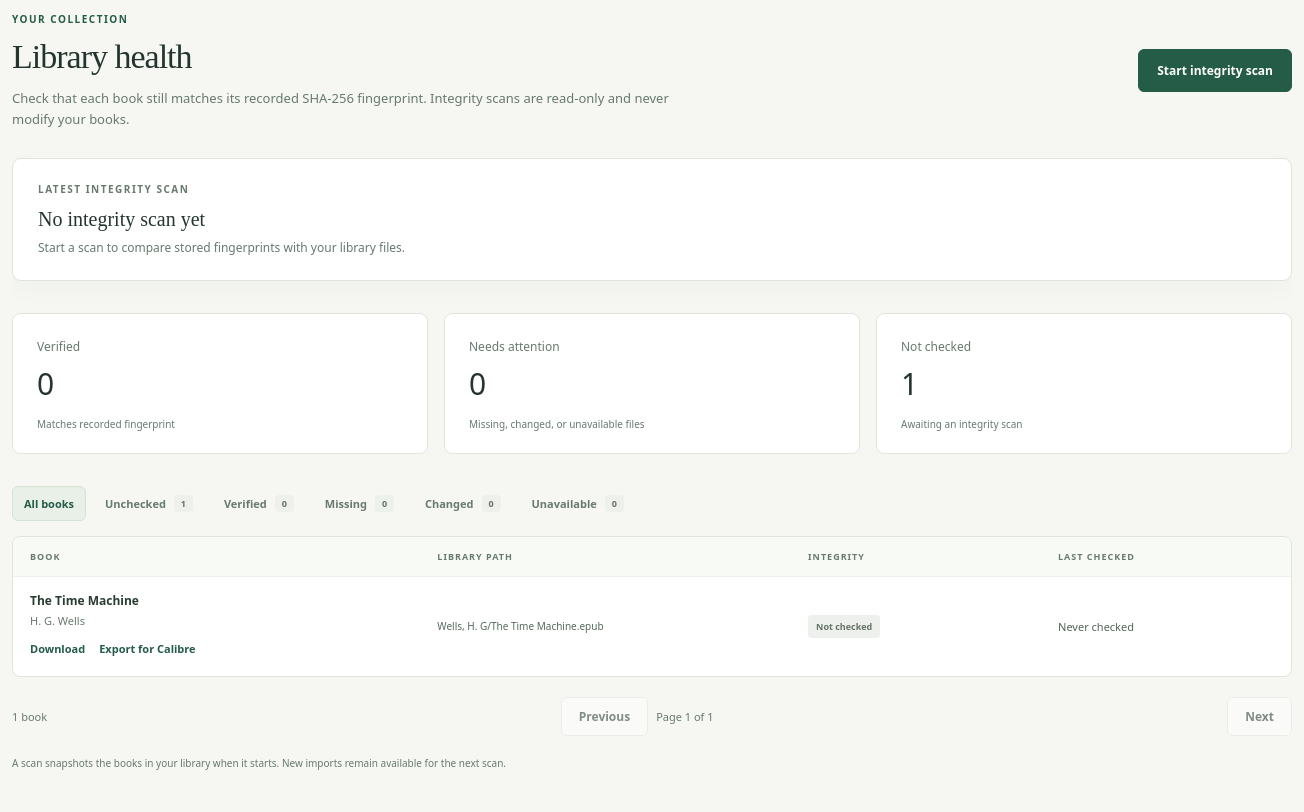
Test: filters by integrity status and requests the selected page data
Check: the text "The Time Machine" is shown, box [30,592,139,609]
Click the button with aria-label "Missing, 0 books".
click(359, 503)  # box [313,486,406,521]
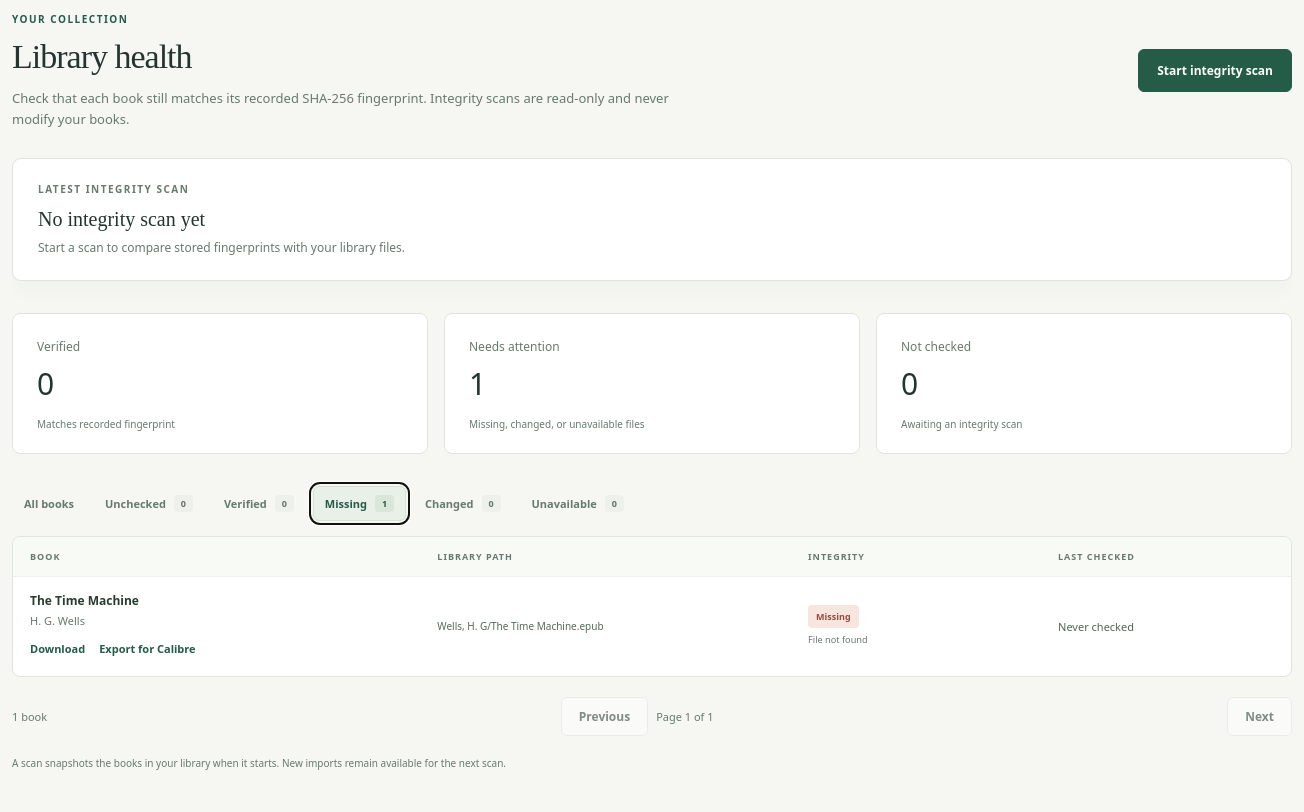
Check: the text "Missing" is shown, box [808,605,859,628]
Check: the text "File not found" is shown, box [808,633,868,646]
